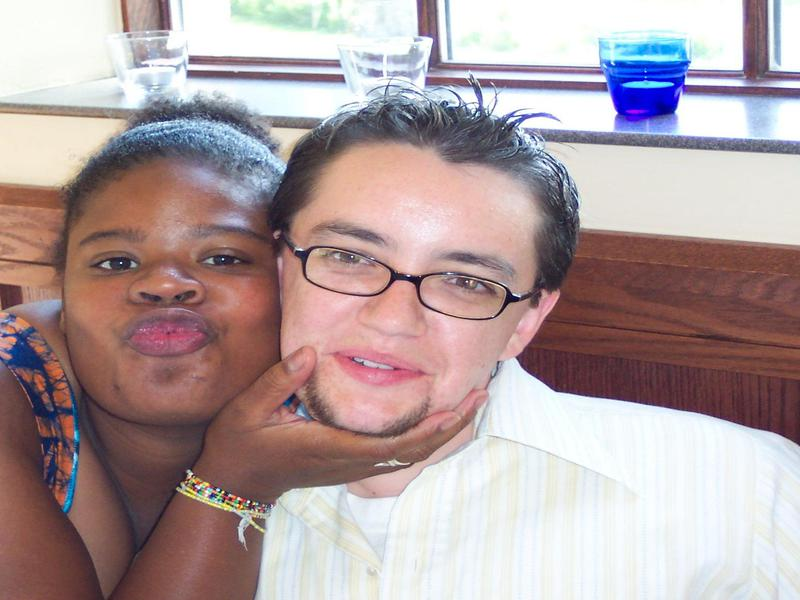person: (246, 97, 799, 595), (1, 108, 482, 600)
